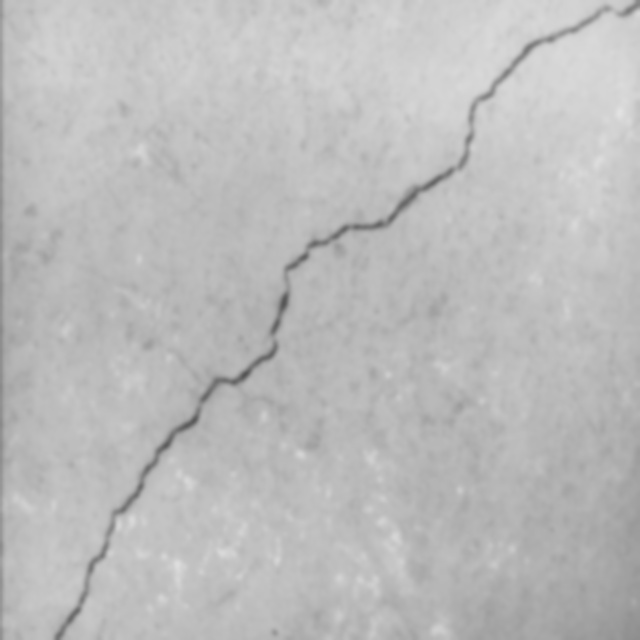SurfaceCrack: (3, 1, 640, 639)
